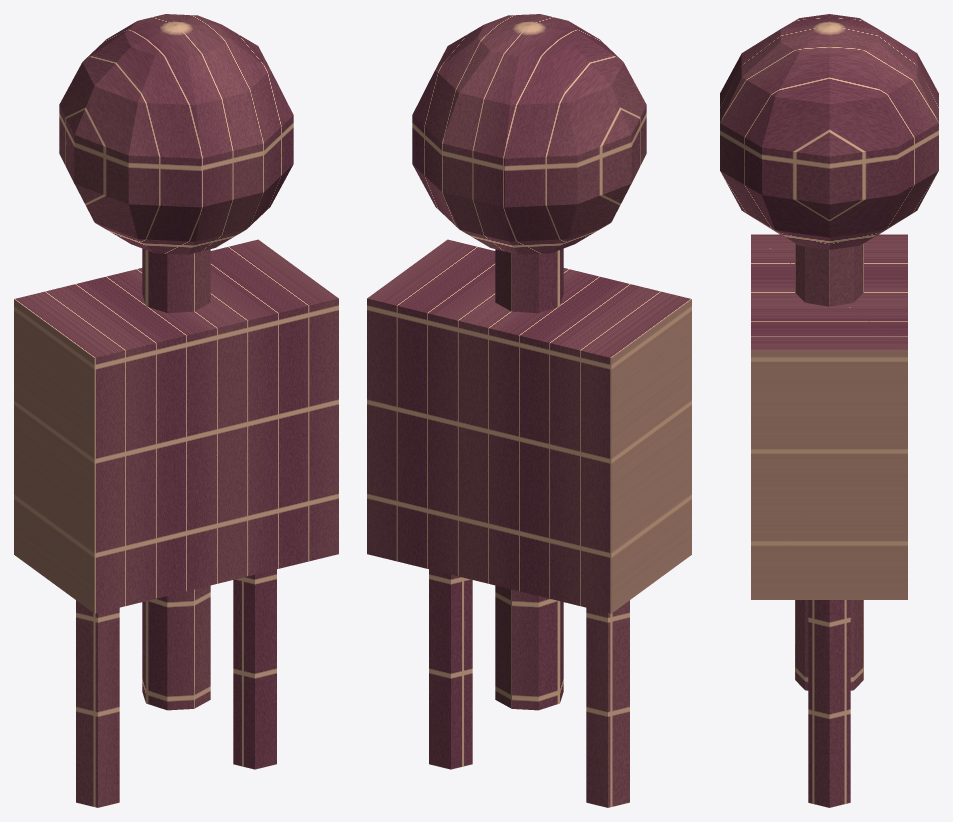
Rendered from muneca_colgante.obj.
The picture shows the model from 3 angles, left to right: view 1: azimuth 30°, elevation 25°; view 2: azimuth 150°, elevation 25°; view 3: azimuth 270°, elevation 25°; orthographic projection. The views are drawn at different scales.
Visible parts, largest first — view 1: muneca_colgante; view 2: muneca_colgante; view 3: muneca_colgante.
Part boxes in pixels (x1=…): muneca_colgante: x1=14, y1=14, x2=338, y2=807; muneca_colgante: x1=367, y1=14, x2=691, y2=807; muneca_colgante: x1=720, y1=14, x2=938, y2=807.
Size of the model in its own units: 0.28 by 0.825 by 0.2225.
Materials: 1 (1 with a texture image).
